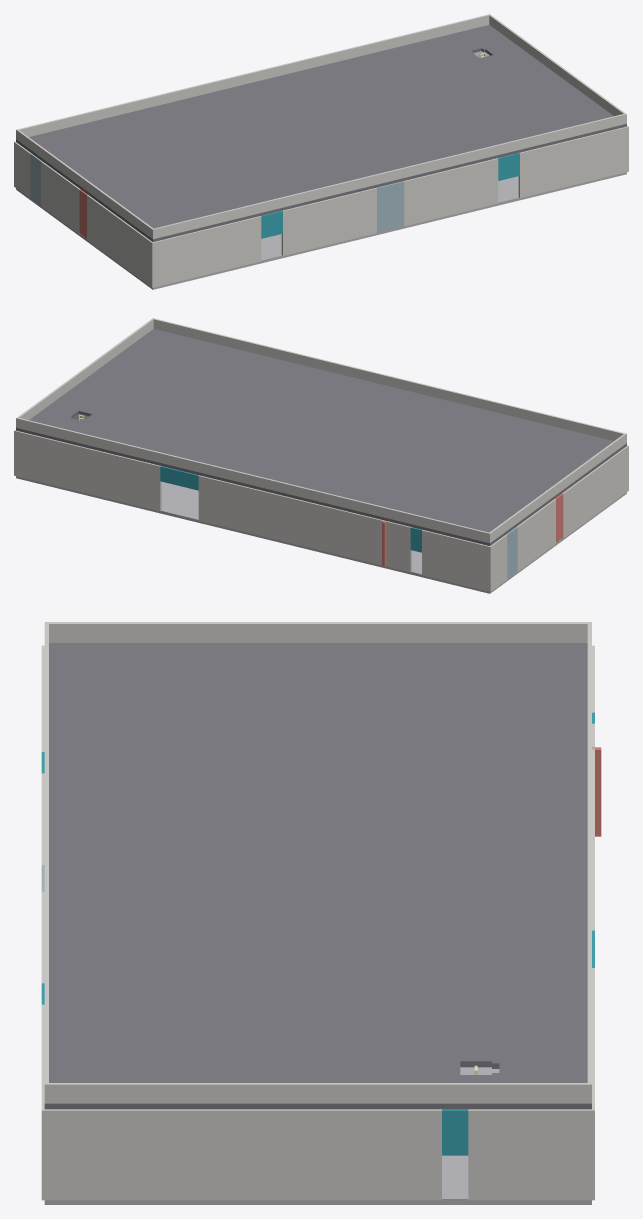
The model's file is train_yard_a01.glb.
3 views of the same model, one above another, from view 1: azimuth 30°, elevation 25°; view 2: azimuth 150°, elevation 25°; view 3: azimuth 270°, elevation 25° (orthographic). The views are drawn at different scales.
Parts seen in each view (by area): view 1: slab_1_t1_8, slab_1_t2_7, slab_1_t3_1, slab_1_t3_5, slab_1_t3_7, slab_1_t4_2, slab_1_t4_4, slab_1_t1_4, slab_1_t2_2, slab_1_t2_3, slab_1_t2_5, slab_1_t2_9 (+114 smaller); view 2: slab_1_t4_8, slab_1_t1_2, slab_1_t1_4, slab_1_t2_1, slab_1_t2_5, slab_1_t2_7, slab_1_t3_7, slab_1_t1_3, slab_1_t1_6, slab_1_t1_9, slab_1_t2_6, slab_1_t2_8 (+112 smaller); view 3: slab_1_t4_9, slab_1_t2_5, slab_1_t3_1, slab_1_t3_2, slab_1_t3_3, slab_1_t3_4, slab_1_t3_5, slab_1_t3_6, slab_1_t3_7, slab_1_t3_8, slab_1_t3_9, slab_1_t4_5 (+81 smaller).
Boxes of the visible parts, box(x1,y1,x2,y2) form: slab_1_t1_8: box(452, 111, 517, 138); slab_1_t2_7: box(386, 105, 451, 132); slab_1_t3_1: box(105, 151, 170, 178); slab_1_t3_5: box(277, 109, 342, 136); slab_1_t3_7: box(363, 88, 428, 115); slab_1_t4_2: box(125, 124, 190, 151); slab_1_t4_4: box(211, 103, 276, 130); slab_1_t1_4: box(280, 153, 344, 180); slab_1_t2_2: box(171, 158, 236, 184); slab_1_t2_3: box(214, 147, 279, 174); slab_1_t2_5: box(300, 126, 365, 153); slab_1_t2_9: box(472, 84, 537, 111); slab_1_t4_8: box(125, 415, 190, 442); slab_1_t1_2: box(452, 428, 517, 455); slab_1_t1_4: box(366, 407, 431, 434); slab_1_t2_1: box(472, 455, 537, 482); slab_1_t2_5: box(300, 413, 365, 440); slab_1_t2_7: box(214, 392, 279, 419); slab_1_t3_7: box(191, 409, 256, 436); slab_1_t1_3: box(409, 418, 474, 444); slab_1_t1_6: box(280, 386, 344, 413); slab_1_t1_9: box(150, 355, 215, 381); slab_1_t2_6: box(257, 403, 322, 429); slab_1_t2_8: box(171, 382, 236, 408); slab_1_t4_9: box(409, 1019, 500, 1067); slab_1_t2_5: box(227, 851, 318, 893); slab_1_t3_1: box(318, 683, 409, 725); slab_1_t3_2: box(318, 725, 409, 767); slab_1_t3_3: box(318, 767, 409, 809); slab_1_t3_4: box(318, 809, 409, 851); slab_1_t3_5: box(318, 851, 409, 893); slab_1_t3_6: box(318, 893, 409, 935); slab_1_t3_7: box(318, 935, 409, 977); slab_1_t3_8: box(318, 977, 409, 1019); slab_1_t3_9: box(318, 1019, 409, 1061); slab_1_t4_5: box(409, 851, 500, 893).
Size of what is drawn, in the model's own units: 52.3 by 6.3 by 26.6.
